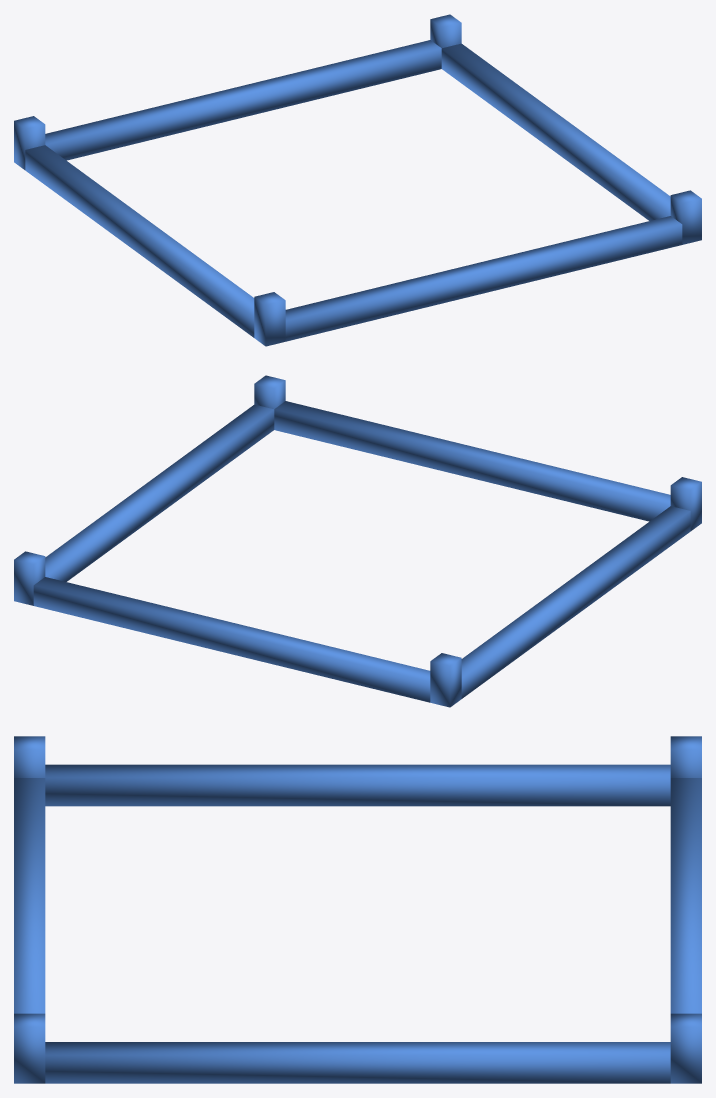
Rendered from outline.obj.
The picture shows the model from 3 angles, top to bottom: view 1: azimuth 30°, elevation 25°; view 2: azimuth 150°, elevation 25°; view 3: azimuth 270°, elevation 25°; orthographic projection. The views are drawn at different scales.
Parts seen in each view (by area): view 1: Box002; view 2: Box002; view 3: Box002.
Part boxes in pixels (box(x1,y1,x2,y2)): Box002: box(14, 14, 701, 346); Box002: box(14, 375, 701, 707); Box002: box(14, 736, 701, 1083).
Bounding box in the file's own units: 220 × 20 × 220.
